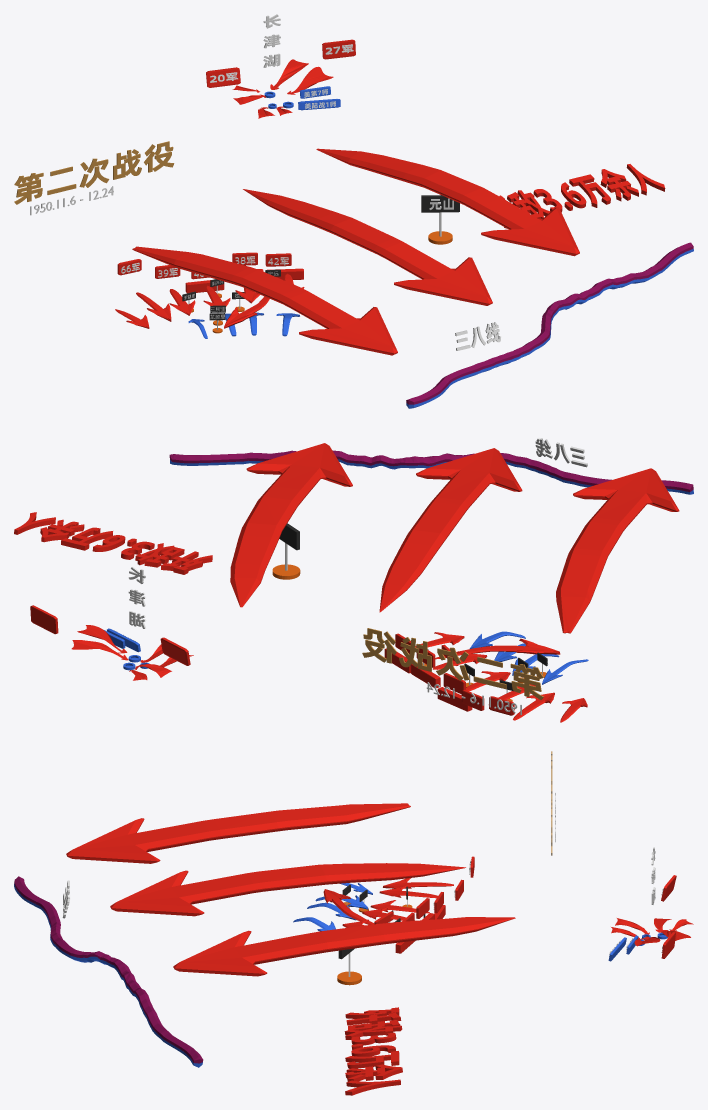
The model's file is 1-2-animate.glb.
3 renders of one model, top to bottom at view 1: azimuth 30°, elevation 25°; view 2: azimuth 150°, elevation 25°; view 3: azimuth 270°, elevation 25°, orthographic. The views are drawn at different scales.
Parts seen in each view (by area): view 1: 贝塞尔曲线.016, 贝塞尔曲线.017, 贝塞尔曲线.112, 38line1, 文本.015, 文本.013, 柱体.009, 立方体.019; view 2: 贝塞尔曲线.016, 贝塞尔曲线.017, 贝塞尔曲线.112, 38line1, 文本.015, 文本.013, 柱体.009, 贝塞尔曲线.128, 文本.017, 文本.012, 立方体.021, 立方体.019 (+1 smaller); view 3: 贝塞尔曲线.016, 贝塞尔曲线.017, 贝塞尔曲线.112, 文本.015, 38line1.
Part boxes in pixels (box(x1,y1,x2,y2)): 贝塞尔曲线.016: box(132, 246, 397, 355); 贝塞尔曲线.017: box(316, 148, 579, 256); 贝塞尔曲线.112: box(243, 189, 492, 305); 38line1: box(406, 242, 693, 408); 文本.015: box(499, 164, 665, 228); 文本.013: box(14, 141, 174, 204); 柱体.009: box(421, 195, 459, 244); 立方体.019: box(206, 67, 240, 87); 贝塞尔曲线.016: box(556, 468, 679, 633); 贝塞尔曲线.017: box(230, 443, 352, 607); 贝塞尔曲线.112: box(379, 448, 522, 612); 38line1: box(169, 450, 693, 494); 文本.015: box(14, 512, 212, 574); 文本.013: box(362, 628, 543, 699); 柱体.009: box(272, 523, 300, 579); 贝塞尔曲线.128: box(435, 638, 560, 659); 文本.017: box(535, 438, 587, 467); 文本.012: box(128, 566, 146, 628); 立方体.021: box(30, 605, 58, 634); 立方体.019: box(160, 637, 190, 665); 贝塞尔曲线.016: box(66, 803, 410, 863); 贝塞尔曲线.017: box(173, 917, 515, 976); 贝塞尔曲线.112: box(110, 863, 465, 916); 文本.015: box(344, 1007, 402, 1095); 38line1: box(14, 876, 203, 1067).
Size of what is drawn, in the model's own units: 44.83 by 12.42 by 47.22.
